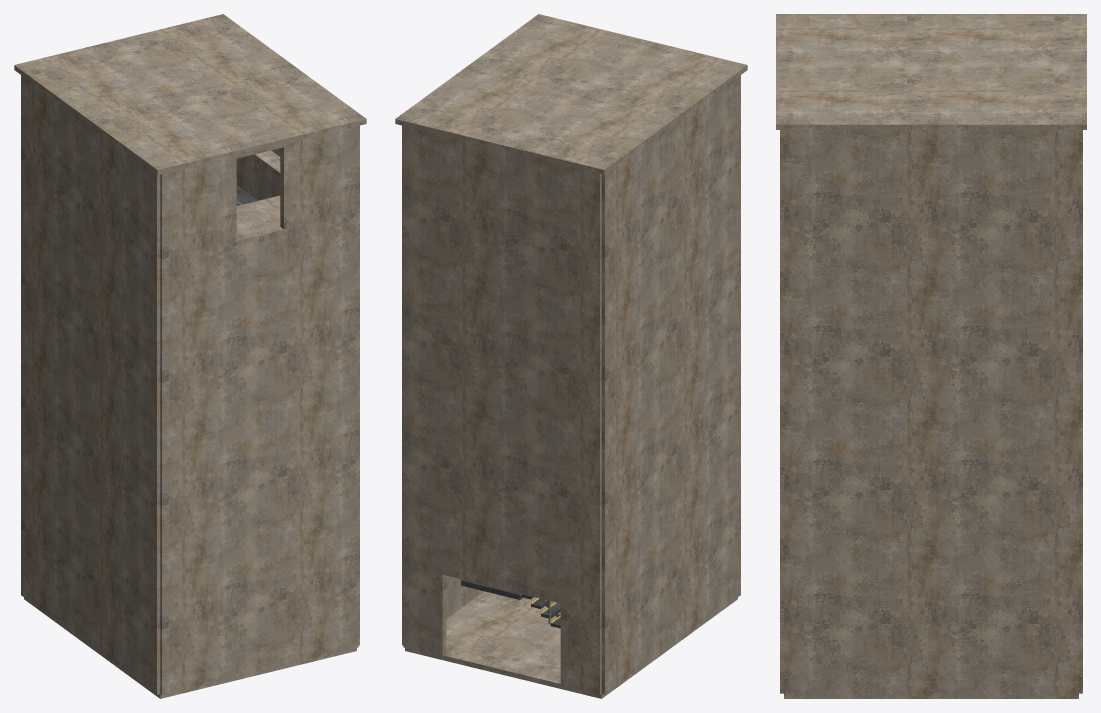
File: silo-access-portal.gltf
3 views of the same model, side by side, from view 1: azimuth 30°, elevation 25°; view 2: azimuth 150°, elevation 25°; view 3: azimuth 270°, elevation 25° (orthographic). The views are drawn at different scales.
Visible parts, largest first — view 1: access-wall-21-concrete-20, access-roof-22-concrete-27, access-wall-17-concrete-0, access-wall-18-concrete-5, access-wall-19-concrete-10, access-wall-20-concrete-15, access-wall-22-concrete-25, access-floor-22-concrete-26, access-floor-17-concrete-1; view 2: access-roof-22-concrete-27, access-wall-18-concrete-5, access-wall-19-concrete-10, access-wall-20-concrete-15, access-wall-21-concrete-20, access-wall-22-concrete-25, access-wall-17-concrete-0, access-floor-17-concrete-1, access-stair-17-steel-2; view 3: access-roof-22-concrete-27, access-wall-17-concrete-0, access-wall-19-concrete-10, access-wall-21-concrete-20, access-wall-18-concrete-5, access-wall-20-concrete-15, access-wall-22-concrete-25, access-floor-17-concrete-1.
Part boxes in pixels (box(x1,y1,x2,y2)): access-wall-21-concrete-20: box(21, 155, 359, 346); access-roof-22-concrete-27: box(14, 14, 366, 174); access-wall-17-concrete-0: box(21, 508, 359, 695); access-wall-18-concrete-5: box(21, 421, 359, 607); access-wall-19-concrete-10: box(21, 334, 359, 520); access-wall-20-concrete-15: box(21, 246, 359, 433); access-wall-22-concrete-25: box(21, 75, 359, 259); access-floor-22-concrete-26: box(236, 150, 280, 238); access-floor-17-concrete-1: box(24, 597, 356, 698); access-roof-22-concrete-27: box(395, 14, 747, 174); access-wall-18-concrete-5: box(402, 421, 740, 607); access-wall-19-concrete-10: box(402, 334, 740, 520); access-wall-20-concrete-15: box(402, 246, 740, 433); access-wall-21-concrete-20: box(402, 159, 740, 346); access-wall-22-concrete-25: box(402, 75, 740, 259); access-wall-17-concrete-0: box(402, 508, 740, 695); access-floor-17-concrete-1: box(405, 591, 737, 698); access-stair-17-steel-2: box(461, 579, 560, 628); access-roof-22-concrete-27: box(776, 14, 1086, 129); access-wall-17-concrete-0: box(780, 599, 1082, 695); access-wall-19-concrete-10: box(780, 410, 1082, 506); access-wall-21-concrete-20: box(780, 221, 1082, 317); access-wall-18-concrete-5: box(780, 504, 1082, 600); access-wall-20-concrete-15: box(780, 315, 1082, 411); access-wall-22-concrete-25: box(780, 130, 1082, 222); access-floor-17-concrete-1: box(784, 695, 1078, 698).
Size of the model in its own units: 5.32 by 12.96 by 6.32.
4 materials, 3 textured.
